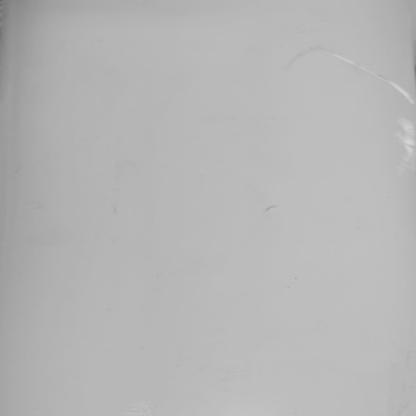sunshang: (314, 49, 415, 106), (392, 120, 416, 170)
